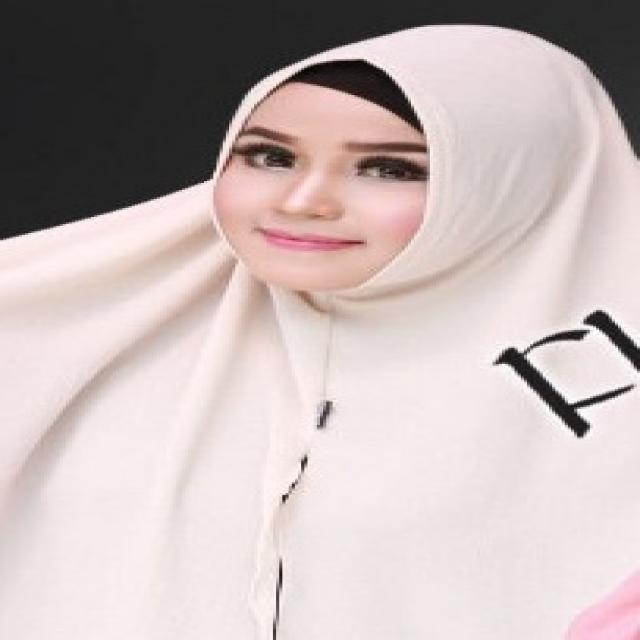head: (207, 17, 621, 303)
